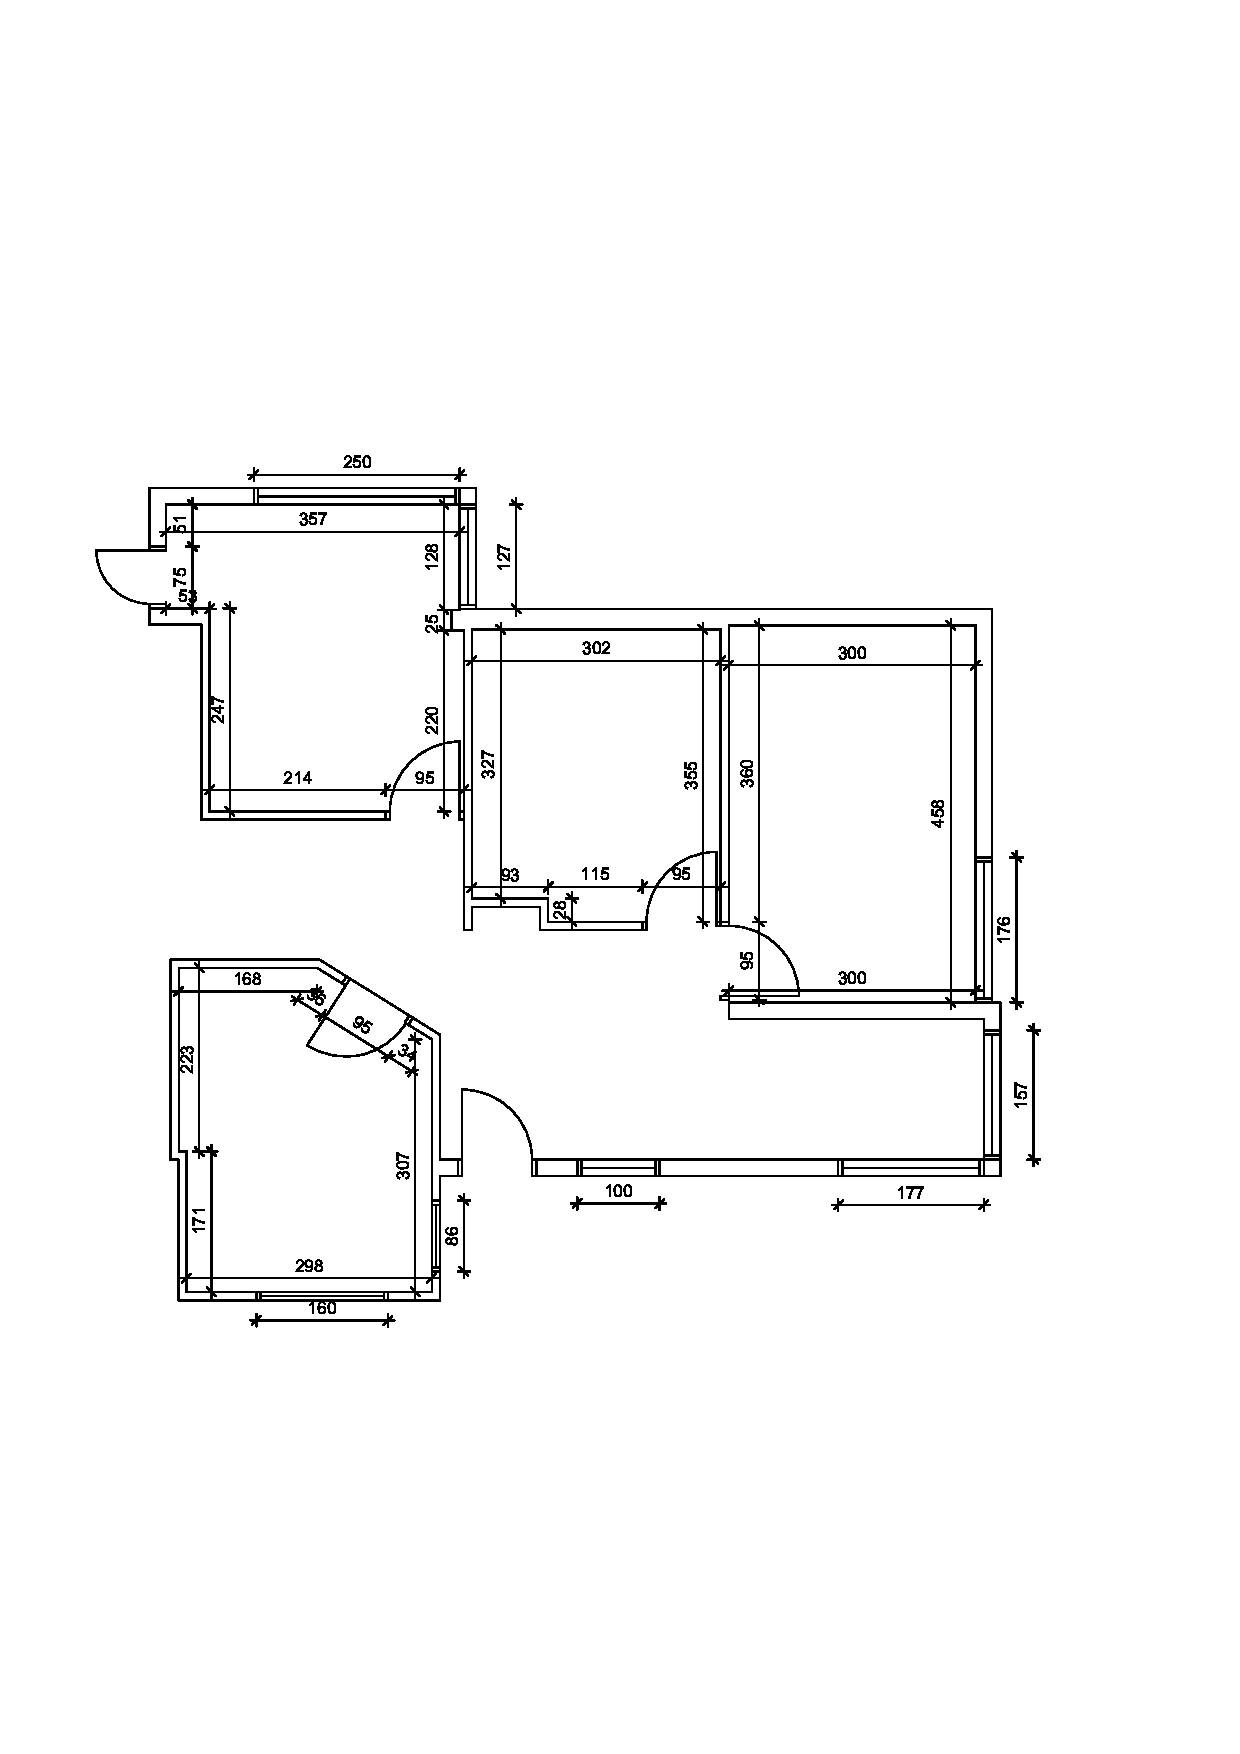door: (451, 1076, 542, 1147), (81, 530, 144, 611)
window: (831, 1147, 985, 1185), (454, 499, 480, 611), (569, 1153, 672, 1178)
